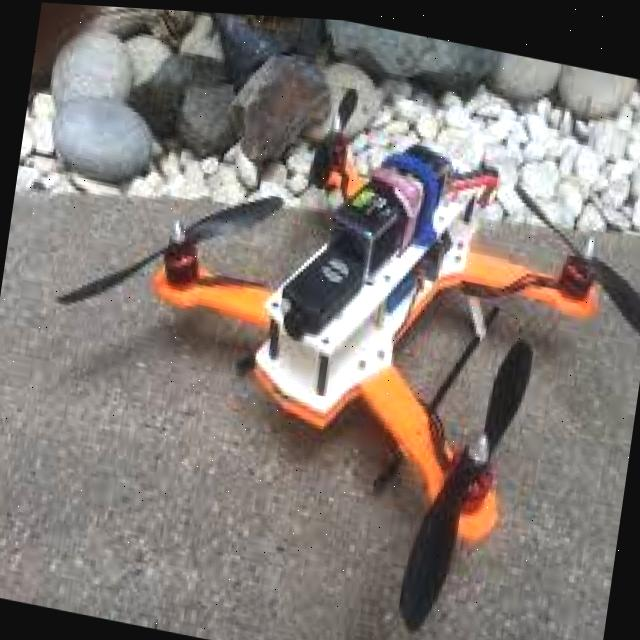drone: (53, 44, 640, 626)
